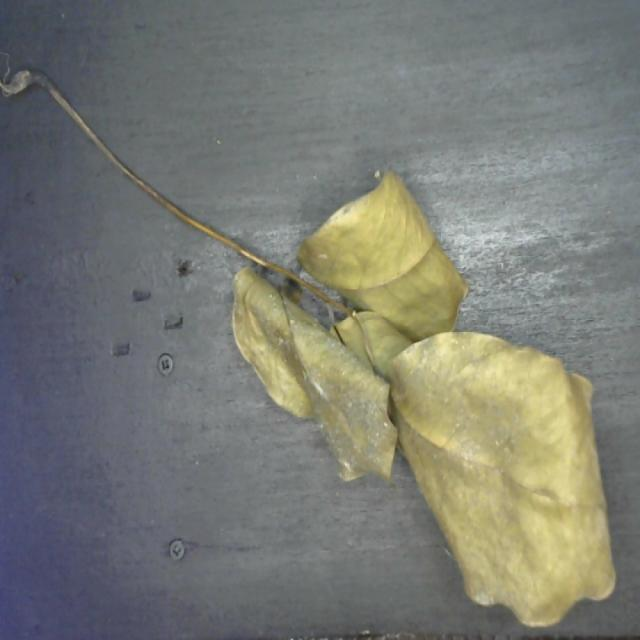biodegradable: (223, 164, 620, 635)
